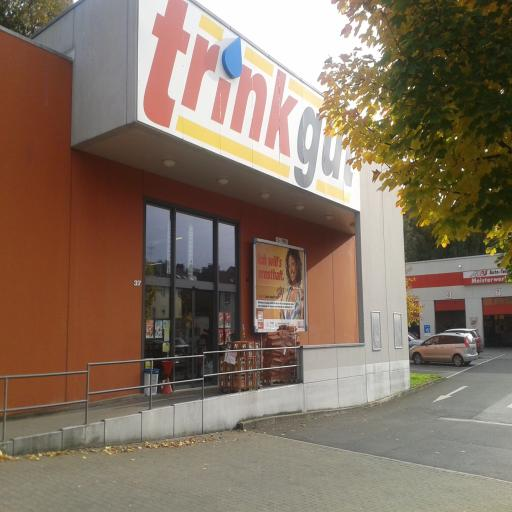ramp: (0, 402, 181, 450)
